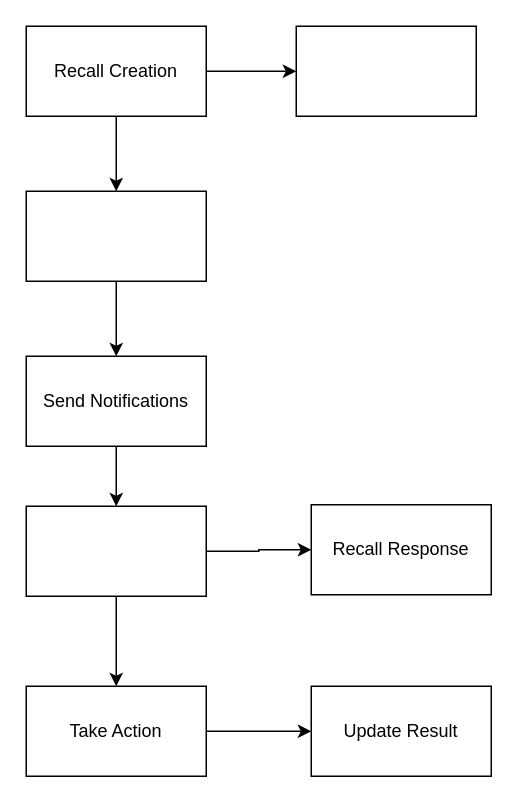
This 518x803 diagram has some shape labels left out. Here are the shapes that lost their labels. From the top down, the box of each, then its label:
(295, 25, 476, 116): Priority Assignment
(25, 190, 206, 281): Queue Generation
(25, 505, 206, 596): Store / Warehouse
